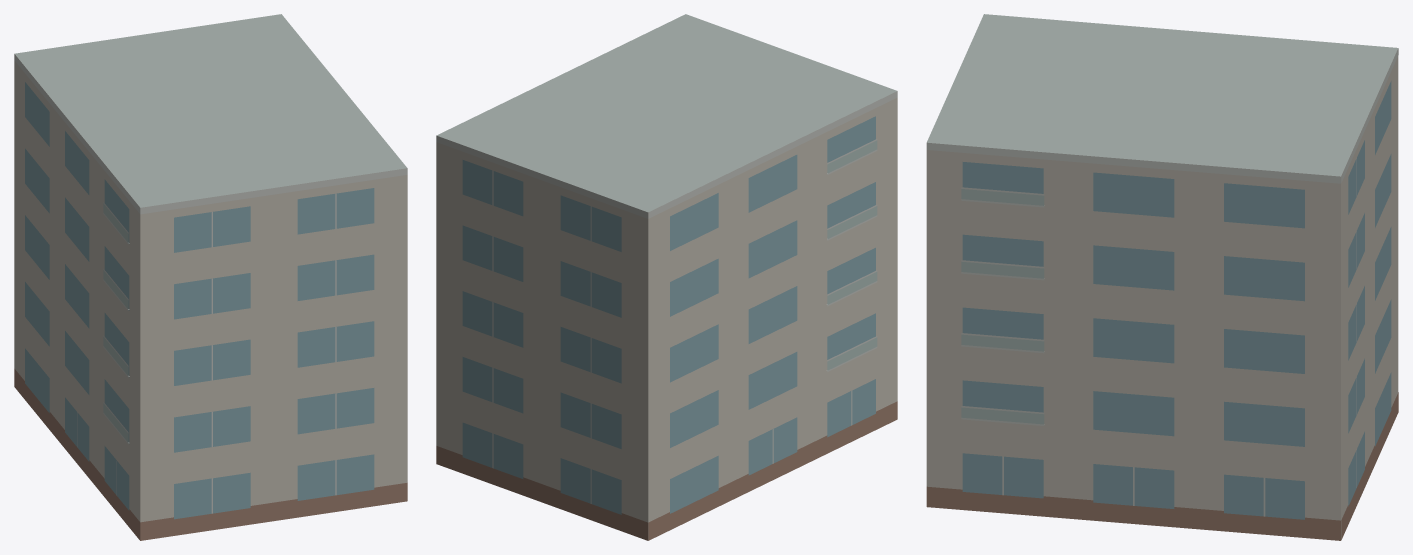
Rendered from survey-upis-32658096.glb.
The picture shows the model from 3 angles, left to right: view 1: azimuth 30°, elevation 25°; view 2: azimuth 150°, elevation 25°; view 3: azimuth 270°, elevation 25°; orthographic projection. The views are drawn at different scales.
Parts seen in each view (by area): view 1: survey-upis-32658096.tmp; view 2: survey-upis-32658096.tmp; view 3: survey-upis-32658096.tmp.
Part boxes in pixels (<box>): survey-upis-32658096.tmp: <box>14,14,407,540</box>; survey-upis-32658096.tmp: <box>436,14,897,540</box>; survey-upis-32658096.tmp: <box>926,14,1398,540</box>.
Size of the model in its own units: 11.78 by 12.3 by 14.45.
